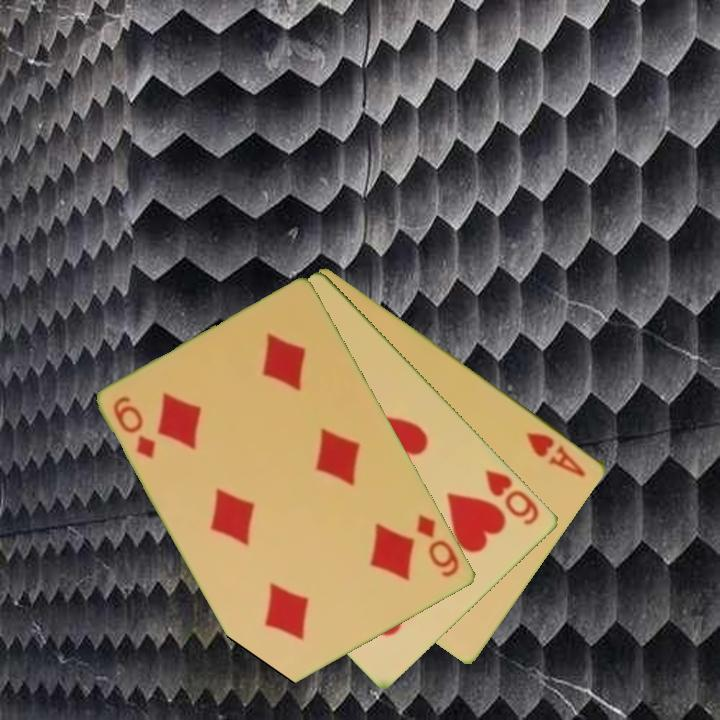6d: (413, 511, 463, 581), (110, 392, 160, 462)
6h: (482, 466, 543, 528)
Ah: (523, 428, 590, 480)
